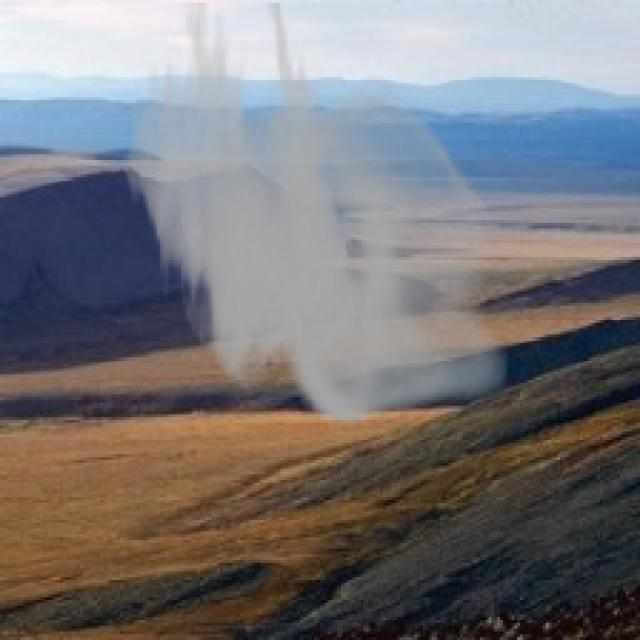Smoke: (120, 3, 509, 426)
